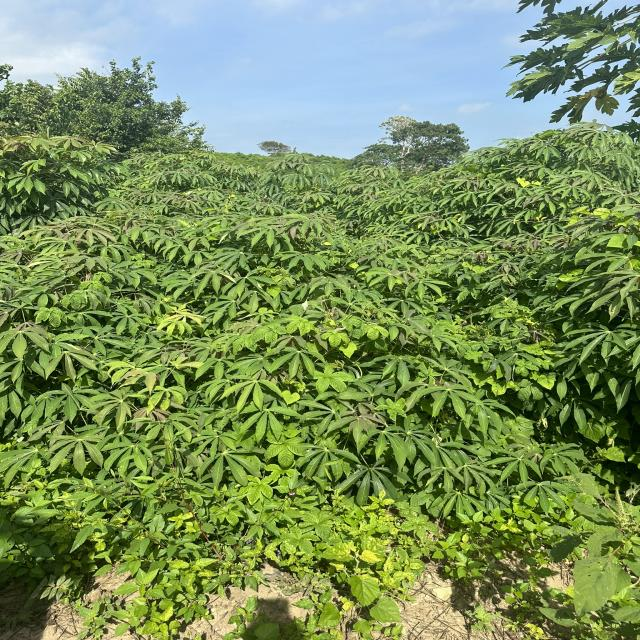Maleza: (280, 508, 466, 636), (467, 515, 640, 640), (214, 488, 332, 586), (115, 538, 241, 626), (32, 522, 140, 603), (262, 430, 307, 466), (309, 361, 353, 397), (247, 467, 301, 496), (513, 355, 559, 389), (592, 428, 625, 475), (575, 419, 622, 449), (351, 310, 391, 345), (469, 369, 515, 398), (364, 483, 401, 516), (170, 508, 204, 540), (377, 389, 409, 420), (30, 304, 66, 328), (253, 319, 287, 344), (56, 291, 92, 313), (284, 313, 312, 341), (323, 329, 354, 349), (282, 385, 301, 404)
